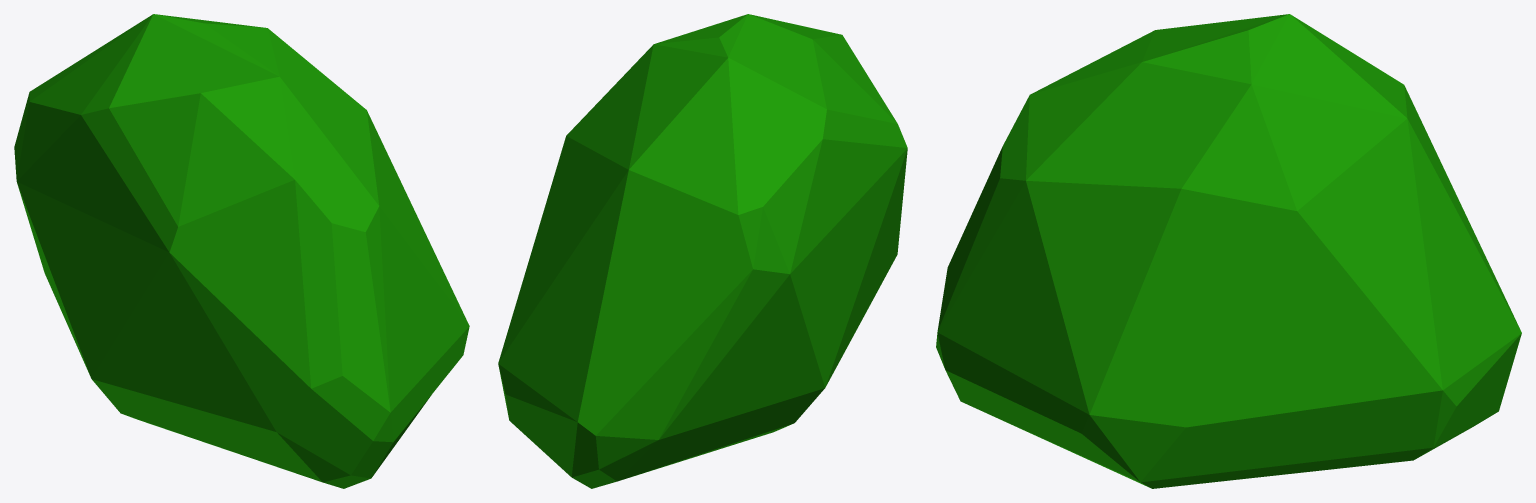
Rendered from bush-1.glb.
3 views of the same model, side by side, from view 1: azimuth 30°, elevation 25°; view 2: azimuth 150°, elevation 25°; view 3: azimuth 270°, elevation 25° (orthographic). The views are drawn at different scales.
Parts seen in each view (by area): view 1: Bush 1; view 2: Bush 1; view 3: Bush 1.
Boxes of the visible parts, <box> form: Bush 1: <box>14,14,469,488</box>; Bush 1: <box>498,14,907,488</box>; Bush 1: <box>936,14,1521,488</box>.
Bounding box in the file's own units: 3.64 × 4.21 × 5.57.
